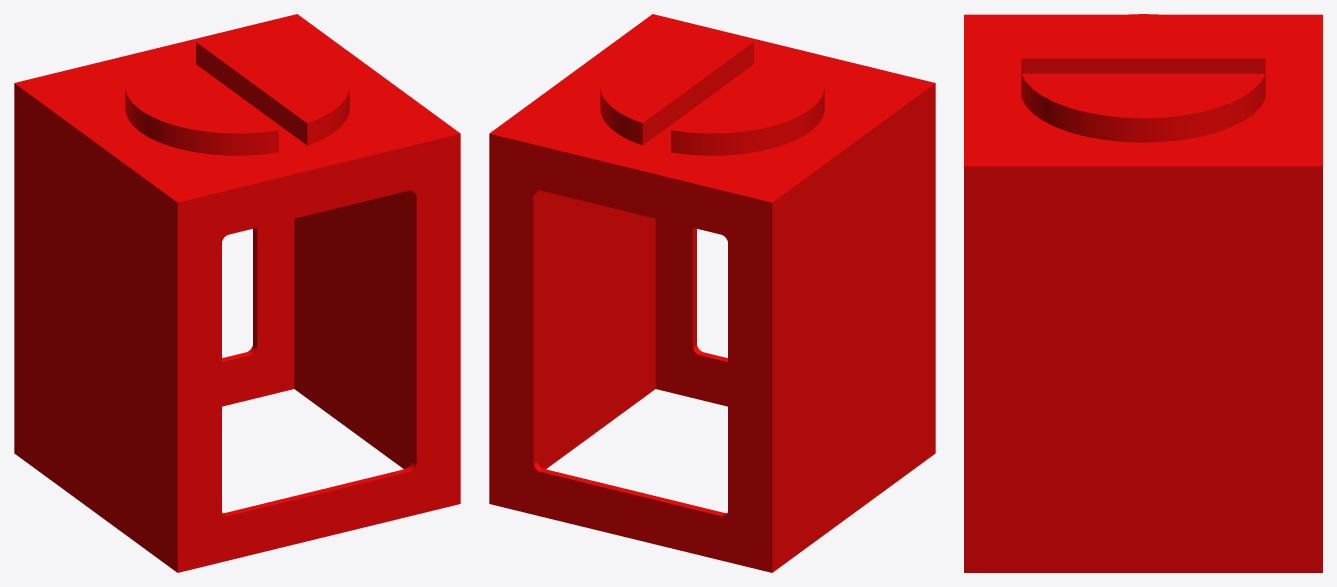
Rendered from outside.gltf.
3 renders of one model, left to right at view 1: azimuth 30°, elevation 25°; view 2: azimuth 150°, elevation 25°; view 3: azimuth 270°, elevation 25°, orthographic. The views are drawn at different scales.
Visible parts, largest first — view 1: Pocket002; view 2: Pocket002; view 3: Pocket002.
Boxes of the visible parts, x1=… form: Pocket002: x1=14, y1=14, x2=460, y2=572; Pocket002: x1=489, y1=14, x2=935, y2=572; Pocket002: x1=964, y1=14, x2=1322, y2=572.
Bounding box in the file's own units: 80 × 106 × 80.
